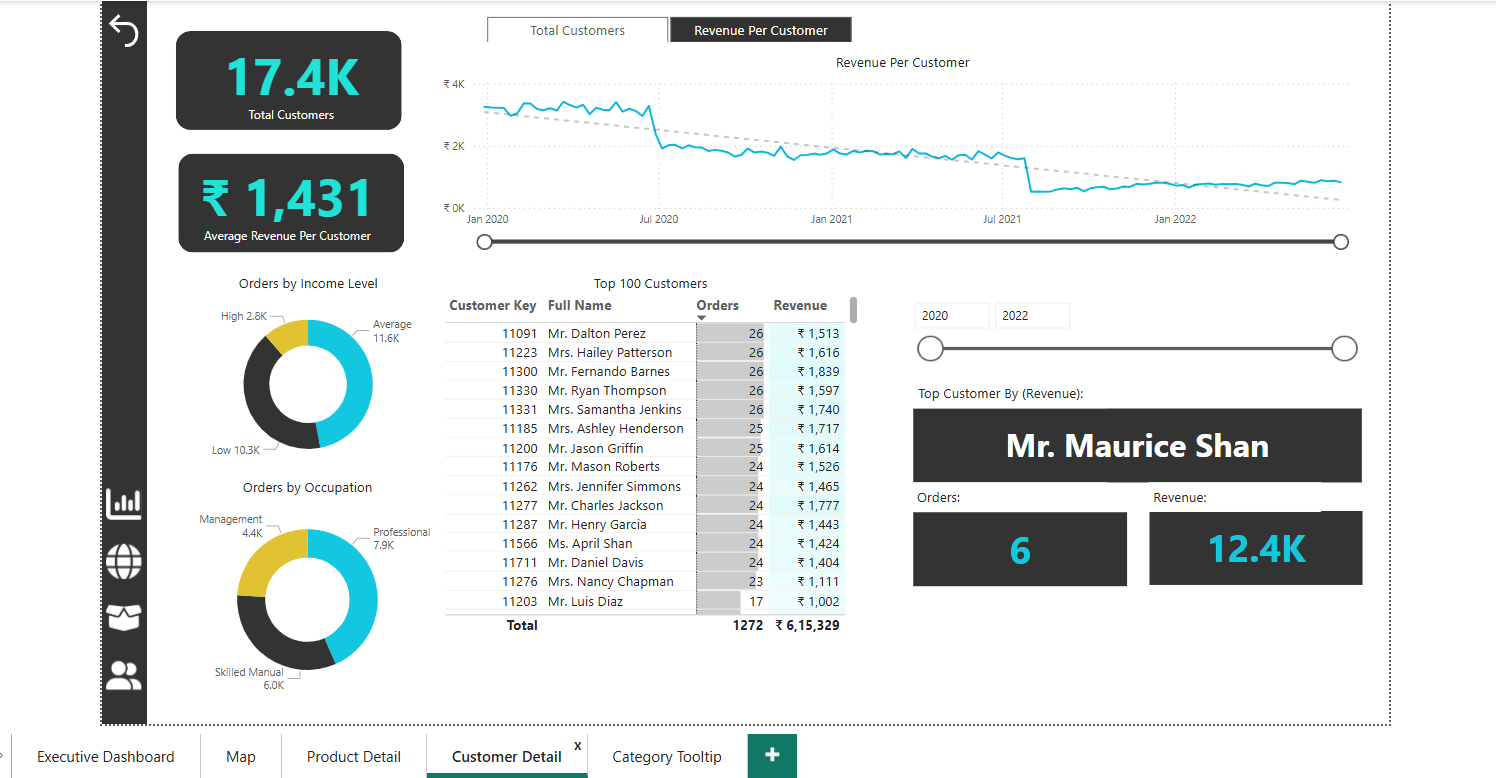

What the dashboard file says about the page in this screenshot:
{"tool":"powerbi","page":{"name":"Customer Detail","canvas":[1280,720],"ordinal":3},"visuals":[{"type":"actionButton","box":[0,592.5,44.8,43.5],"z":0,"group":"g1"},{"type":"shape","box":[0,0,45,720],"z":1000},{"type":"actionButton","box":[0,649.3,44.8,43.5],"z":1000,"group":"g1"},{"type":"shape","box":[73.8,30,225,98.8],"z":2000},{"type":"actionButton","box":[0,478.9,44.8,43.5],"z":2000,"group":"g1"},{"type":"card","fields":{"Values":["Measure Table.Total Customers"]},"box":[70.9,8.7,235.1,143.1],"z":3000},{"type":"actionButton","box":[0,535.7,44.8,43.5],"z":3000,"group":"g1"},{"type":"shape","box":[75.4,151.2,225,98.8],"z":4000},{"type":"card","fields":{"Values":["Measure Table.Average Revenue Per Customer"]},"box":[67.1,128.8,235,142.5],"z":5000},{"type":"donutChart","title":"Orders by Income Level","fields":{"Category":["Customer Lookup.Income Level"],"Y":["Measure Table.Total Orders"]},"box":[75.4,271.6,258.8,203.4],"z":6000},{"type":"donutChart","title":"Orders by Occupation","fields":{"Y":["Measure Table.Total Orders"],"Category":["Customer Lookup.Occupation"]},"box":[75.9,473.9,257.5,226.4],"z":7000},{"type":"tableEx","title":"Top 100 Customers","fields":{"Values":["Customer Lookup.CustomerKey","Customer Lookup.Full Name","Measure Table.Total Orders","Measure Table.Total Revenue"]},"box":[334.6,271.2,422.9,363.2],"z":8000},{"type":"card","fields":{"Values":["Measure Table.Full Name (Customer Detail)"]},"box":[807.1,405.3,446.6,73.4],"z":9000},{"type":"card","fields":{"Values":["Measure Table.Total Orders (Customer Detail)"]},"box":[807.1,508.8,212.7,73.4],"z":10000},{"type":"card","fields":{"Values":["Measure Table.Total Revenue (Customer Detail)"]},"box":[1042.2,507.8,212,73.4],"z":11000},{"type":"textbox","box":[807.1,375.4,191.6,29.9],"z":12000},{"type":"textbox","box":[806.6,478.9,194.1,29.9],"z":13000},{"type":"textbox","box":[1041.7,478.9,171.7,29.9],"z":14000},{"type":"slicer","fields":{"Values":["Calendar Lookup.Year"]},"box":[796.1,289.8,461.5,83.3],"z":15000},{"type":"actionButton","box":[0,7.5,44.8,43.5],"z":16000},{"type":"group","id":"g1","title":"Navigation Buttons","box":[0,478.9,44.8,214],"z":17000},{"type":"lineChart","fields":{"Y":["Measure Table.Average Revenue Per Customer"],"Category":["Calendar Lookup.Date Hierarchy.Start of Year","Calendar Lookup.Date Hierarchy.Start of Month","Calendar Lookup.Date Hierarchy.Start of Week","Calendar Lookup.Date Hierarchy.Date"]},"box":[334.6,51,924.3,199],"z":19000},{"type":"slicer","fields":{"Values":["Customer Metric Selection.Customer Metric Selection"]},"box":[357,8.7,413,32.3],"z":20500}]}

Visuals, with their boxes on the page's 1280x720 design canvas (x1, y1, x2, y2). These are canvas units, not pixel positions in the 1496x778 screenshot, which may show the page scaled, cropped or inside an application window:
actionButton: detection(0, 592, 45, 636)
shape: detection(0, 0, 45, 720)
actionButton: detection(0, 649, 45, 693)
shape: detection(74, 30, 299, 129)
actionButton: detection(0, 479, 45, 522)
card - Measure Table.Total Customers: detection(71, 9, 306, 152)
actionButton: detection(0, 536, 45, 579)
shape: detection(75, 151, 300, 250)
card - Measure Table.Average Revenue Per Customer: detection(67, 129, 302, 271)
"Orders by Income Level" donutChart: detection(75, 272, 334, 475)
"Orders by Occupation" donutChart: detection(76, 474, 333, 700)
"Top 100 Customers" tableEx: detection(335, 271, 758, 634)
card - Measure Table.Full Name (Customer Detail): detection(807, 405, 1254, 479)
card - Measure Table.Total Orders (Customer Detail): detection(807, 509, 1020, 582)
card - Measure Table.Total Revenue (Customer Detail): detection(1042, 508, 1254, 581)
textbox: detection(807, 375, 999, 405)
textbox: detection(807, 479, 1001, 509)
textbox: detection(1042, 479, 1213, 509)
slicer - Calendar Lookup.Year: detection(796, 290, 1258, 373)
actionButton: detection(0, 8, 45, 51)
"Navigation Buttons" group: detection(0, 479, 45, 693)
lineChart - Measure Table.Average Revenue Per Customer x Calendar Lookup.Date Hierarchy.Start of Year: detection(335, 51, 1259, 250)
slicer - Customer Metric Selection.Customer Metric Selection: detection(357, 9, 770, 41)
